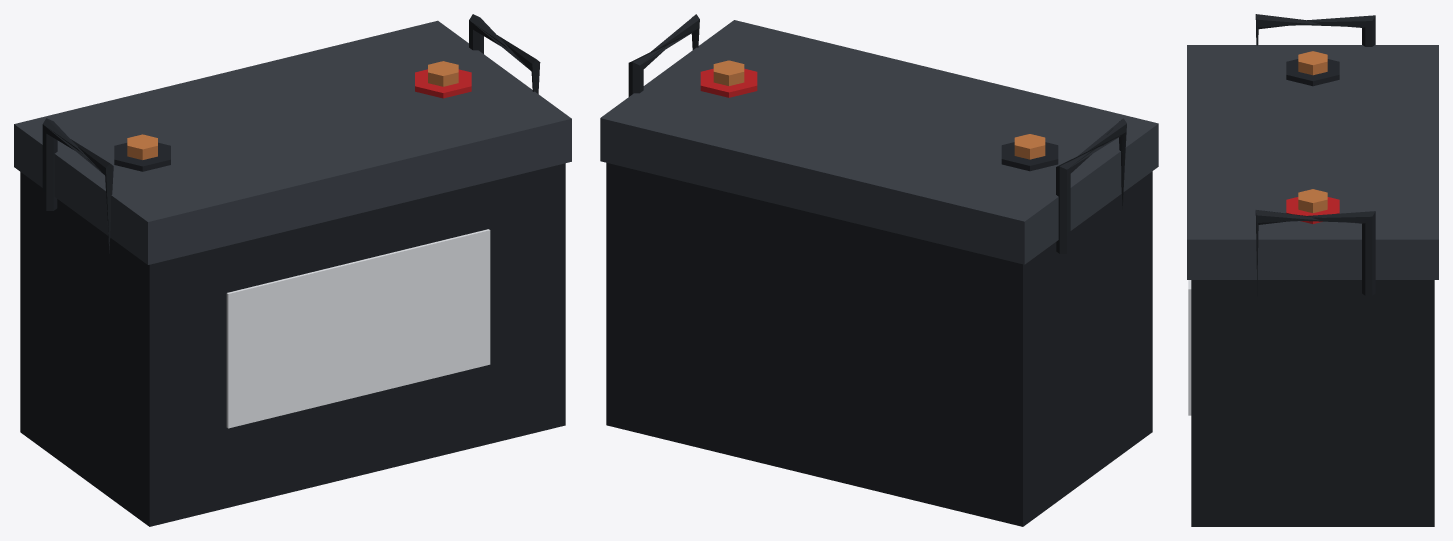
Rendered from battery_battle_born_bb10012.far.glb.
The picture shows the model from 3 angles, left to right: view 1: azimuth 30°, elevation 25°; view 2: azimuth 150°, elevation 25°; view 3: azimuth 270°, elevation 25°; orthographic projection. The views are drawn at different scales.
Parts seen in each view (by area): view 1: battery_battle_born_bb10012; view 2: battery_battle_born_bb10012; view 3: battery_battle_born_bb10012.
Part boxes in pixels (x1,y1,x2,y2): battery_battle_born_bb10012: (14,14,571,526); battery_battle_born_bb10012: (600,14,1158,526); battery_battle_born_bb10012: (1187,14,1438,526).
Size of the model in its own units: 0.3405 by 0.2526 by 0.1805.
